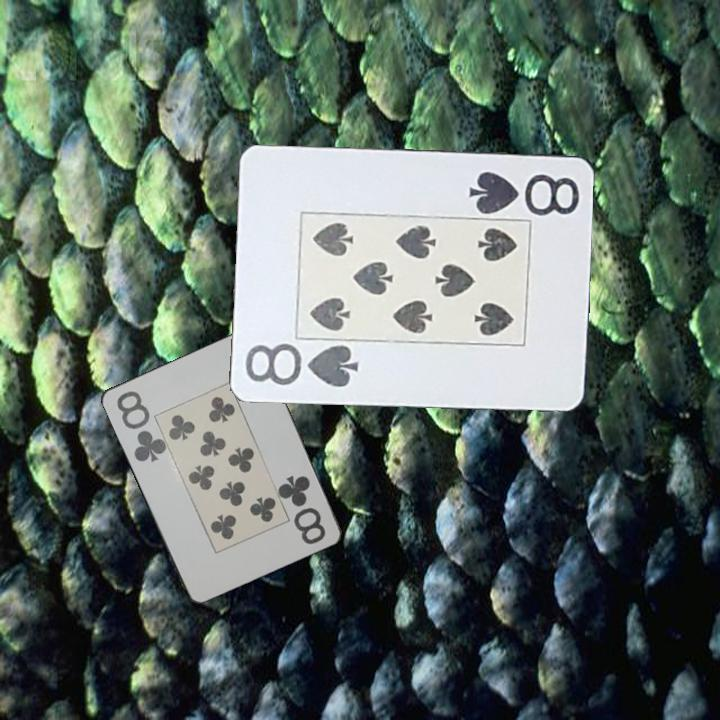8c: (111, 387, 168, 465), (276, 471, 328, 547)
8s: (242, 340, 362, 390), (465, 167, 583, 216)
